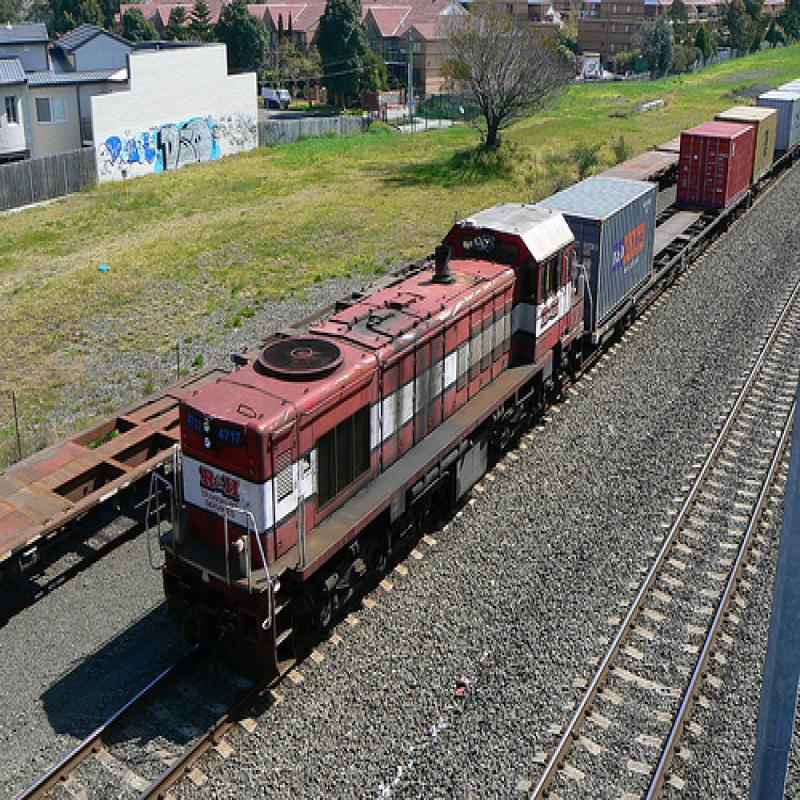train: (153, 82, 800, 688)
